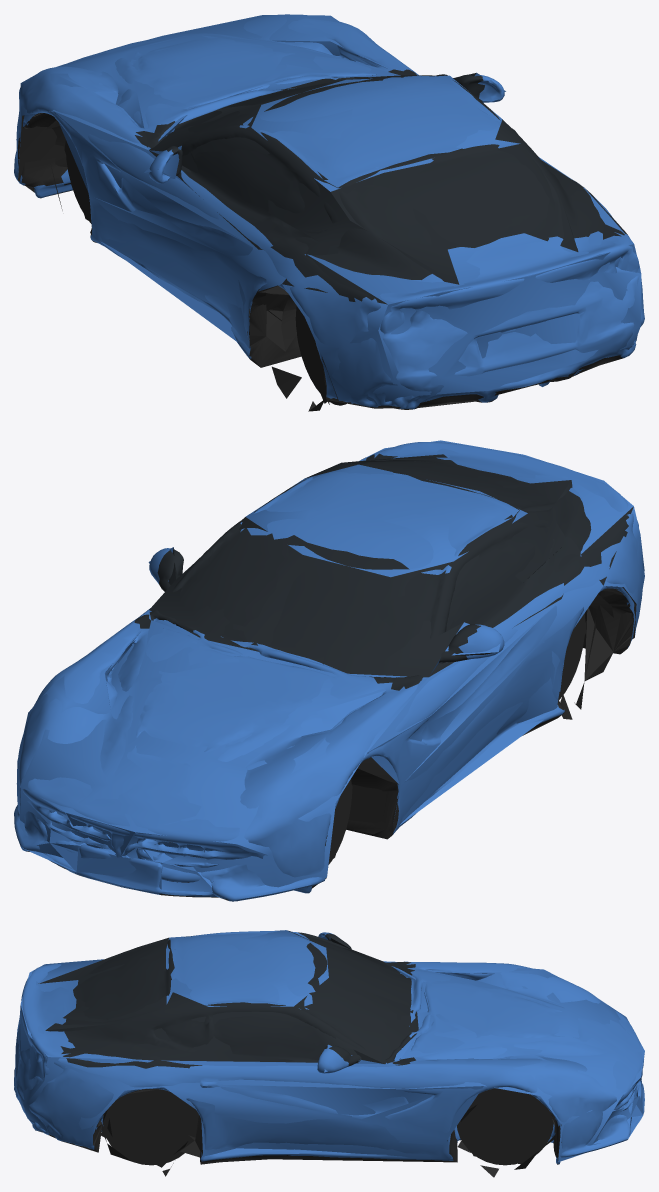
File: ferrari-f12-berlinetta.glb
3 renders of one model, top to bottom at view 1: azimuth 30°, elevation 25°; view 2: azimuth 150°, elevation 25°; view 3: azimuth 270°, elevation 25°, orthographic. The views are drawn at different scales.
Visible parts, largest first — view 1: body, far; view 2: body, far; view 3: body, far.
Boxes of the visible parts, x1=… form: body: x1=14, y1=14, x2=644, y2=411; far: x1=18, y1=15, x2=641, y2=404; body: x1=14, y1=442, x2=644, y2=901; far: x1=17, y1=440, x2=644, y2=891; body: x1=14, y1=931, x2=644, y2=1177; far: x1=14, y1=930, x2=644, y2=1169.
Size of the model in its own units: 2.31 by 1.37 by 4.66.
